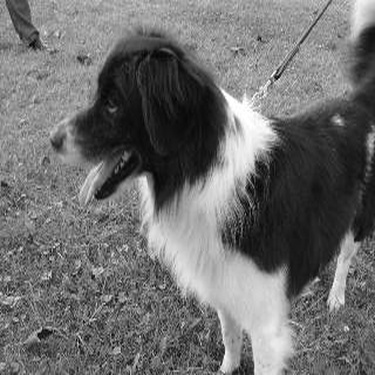dog: (48, 1, 370, 371)
